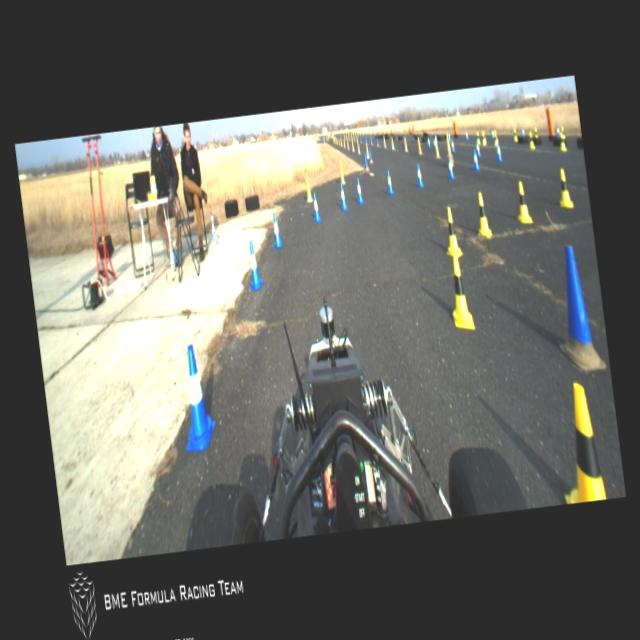blue_cone: (173, 342, 219, 452), (243, 239, 263, 289), (268, 211, 282, 248), (310, 190, 321, 222), (337, 182, 348, 212), (354, 177, 364, 204), (414, 162, 424, 187), (384, 170, 394, 194), (446, 156, 454, 178), (471, 149, 479, 171), (494, 140, 502, 162), (474, 139, 481, 158), (426, 135, 431, 148), (450, 138, 454, 154), (432, 136, 436, 150), (464, 128, 468, 142), (520, 126, 524, 138), (490, 128, 494, 139), (556, 125, 559, 136)
unknown_cone: (546, 240, 608, 376), (444, 131, 454, 163), (304, 172, 312, 201), (338, 159, 344, 182), (362, 151, 368, 171), (416, 135, 422, 154), (434, 138, 439, 158), (402, 135, 408, 151), (368, 144, 372, 161), (390, 134, 394, 150), (365, 142, 369, 158), (382, 134, 386, 148), (350, 138, 354, 151), (356, 140, 360, 152), (346, 138, 349, 150), (376, 134, 378, 146), (370, 134, 372, 144), (343, 138, 345, 148), (340, 138, 342, 146)
yellow_cone: (550, 376, 608, 504), (444, 248, 476, 332), (441, 204, 463, 258), (512, 178, 532, 226), (474, 190, 492, 240), (554, 168, 574, 208), (558, 132, 566, 152), (528, 131, 534, 150), (512, 127, 518, 143), (493, 129, 498, 145), (481, 130, 486, 146), (532, 125, 538, 138), (476, 130, 480, 144)
